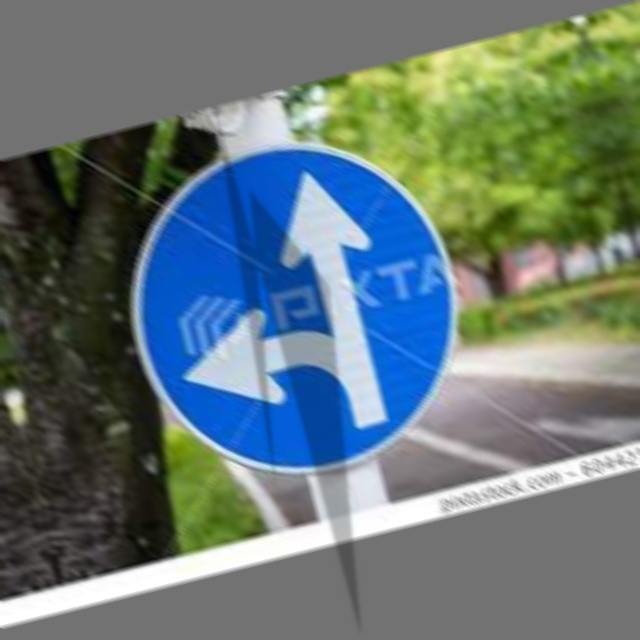Compulsory_Ahead_or_Turn_Left: (100, 117, 491, 494)
